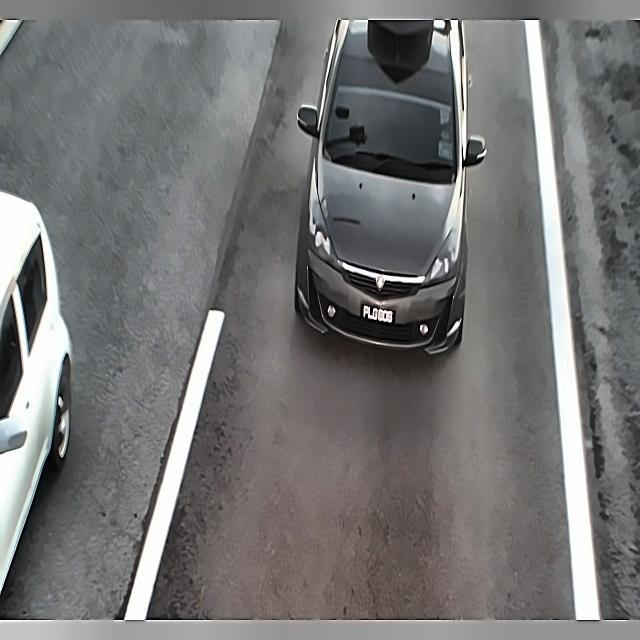car: (356, 292, 401, 332)
